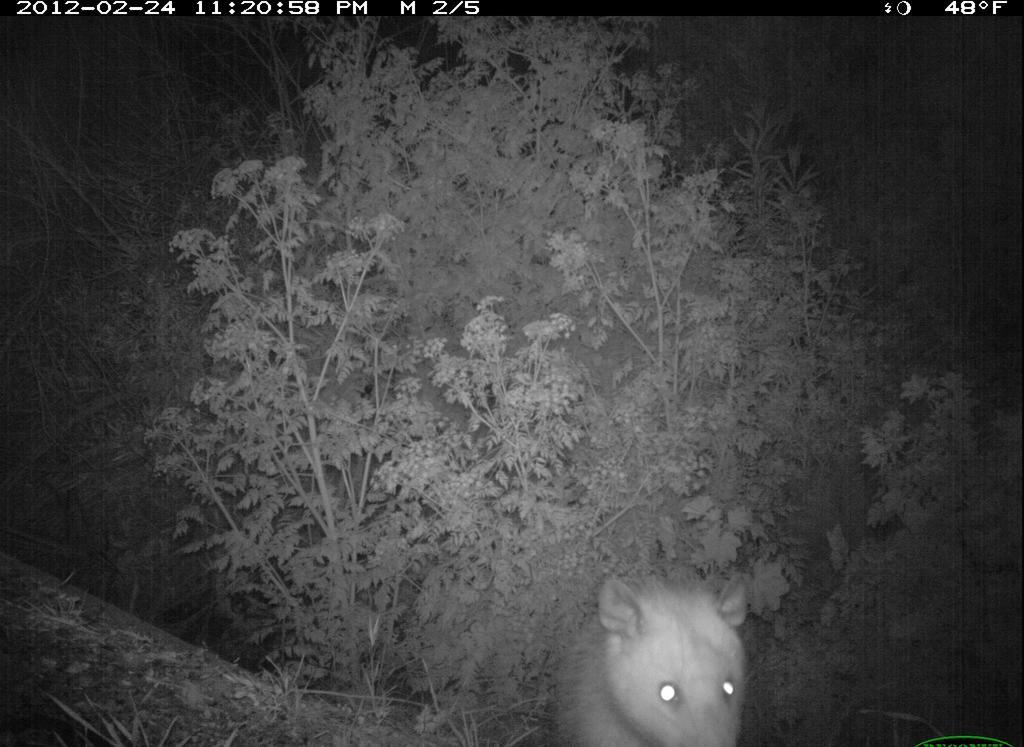opossum: (552, 565, 760, 747)
